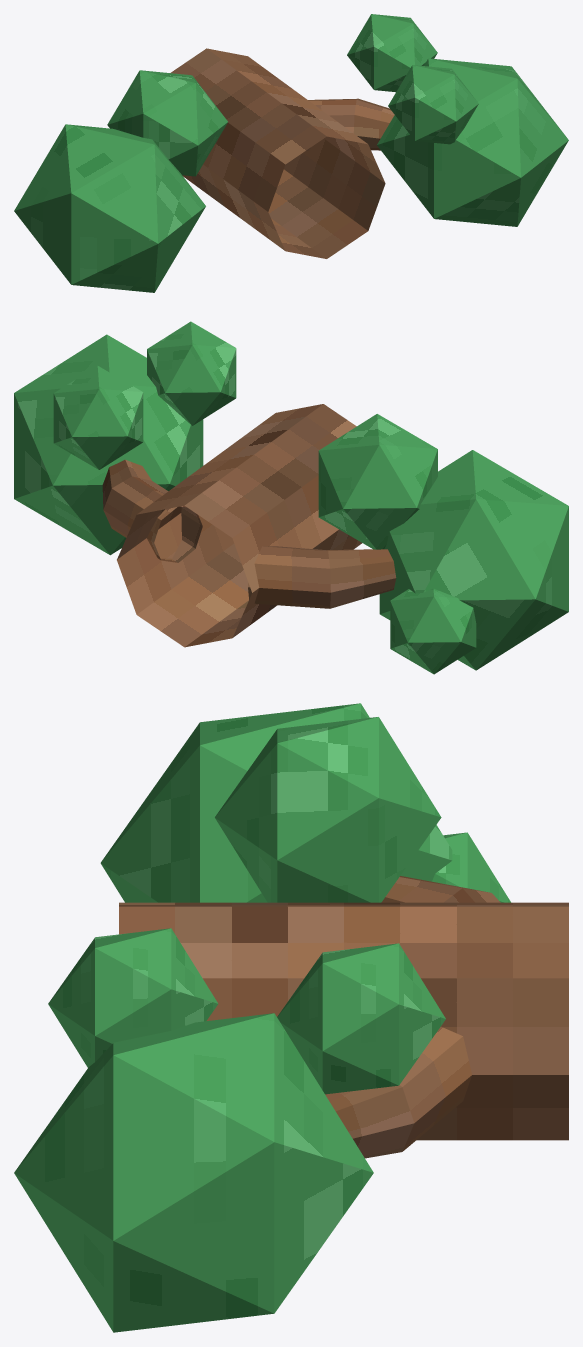
The model's file is tree-oak-center.glb.
The picture shows the model from 3 angles, top to bottom: view 1: azimuth 30°, elevation 25°; view 2: azimuth 150°, elevation 25°; view 3: azimuth 270°, elevation 25°; orthographic projection. The views are drawn at different scales.
Parts seen in each view (by area): view 1: tree-oak-center; view 2: tree-oak-center; view 3: tree-oak-center.
Boxes of the visible parts, <box> form: tree-oak-center: <box>14,14,568,292</box>; tree-oak-center: <box>14,321,568,674</box>; tree-oak-center: <box>14,703,568,1332</box>.
Bounding box in the file's own units: 2.35 × 0.8239 × 1.23.
Materials: 1 (1 with a texture image).
